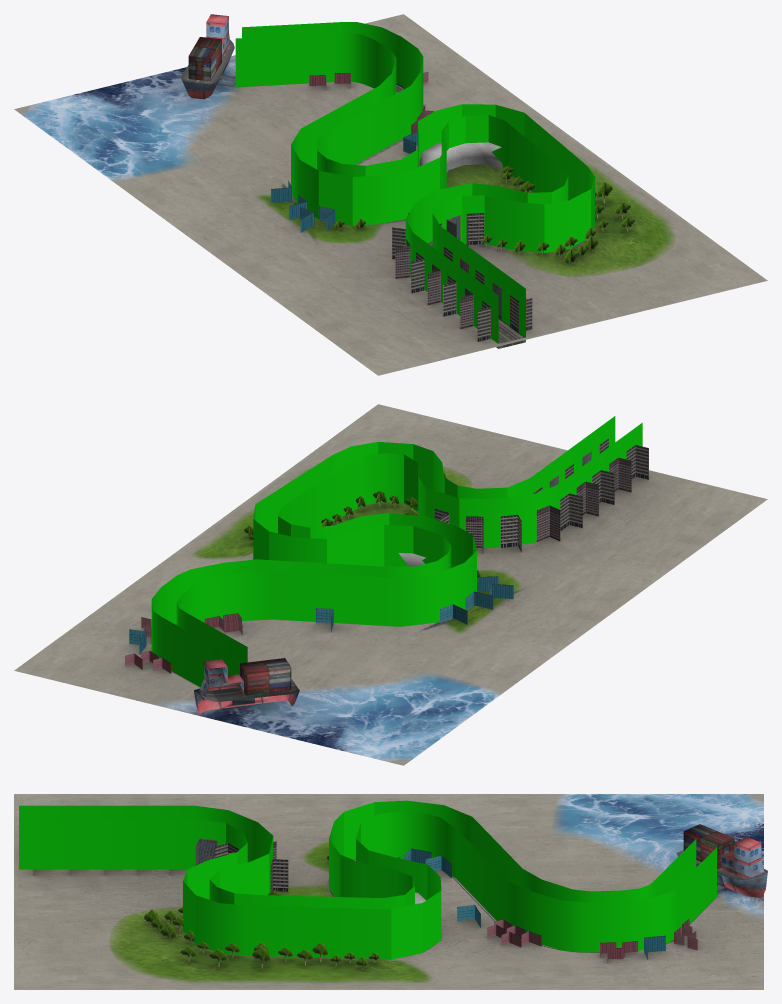
File: environment_v2.fbx
3 renders of one model, top to bottom at view 1: azimuth 30°, elevation 25°; view 2: azimuth 150°, elevation 25°; view 3: azimuth 270°, elevation 25°, orthographic. The views are drawn at different scales.
Parts seen in each view (by area): view 1: terrain, barrier, buildings, ship, cargocontainers, trees, tunnel; view 2: terrain, barrier, buildings, ship, cargocontainers, trees; view 3: terrain, barrier, ship, cargocontainers, trees, buildings.
Part boxes in pixels (left/top/right/bottom): terrain: left=14, top=14, right=767, bottom=375; barrier: left=235, top=22, right=594, bottom=343; buildings: left=392, top=213, right=532, bottom=341; ship: left=180, top=14, right=235, bottom=99; cargocontainers: left=271, top=72, right=433, bottom=232; trees: left=334, top=166, right=634, bottom=263; tunnel: left=419, top=142, right=503, bottom=172; terrain: left=14, top=404, right=767, bottom=765; barrier: left=151, top=416, right=642, bottom=687; buildings: left=434, top=438, right=648, bottom=553; ship: left=194, top=658, right=299, bottom=714; cargocontainers: left=125, top=576, right=513, bottom=673; trees: left=244, top=472, right=480, bottom=577; terrain: left=14, top=794, right=763, bottom=989; barrier: left=19, top=800, right=716, bottom=959; ship: left=676, top=824, right=767, bottom=897; cargocontainers: left=398, top=848, right=697, bottom=963; trees: left=144, top=855, right=379, bottom=969; buildings: left=195, top=838, right=288, bottom=892.
Size of the model in its own units: 232 by 32.29 by 378.
